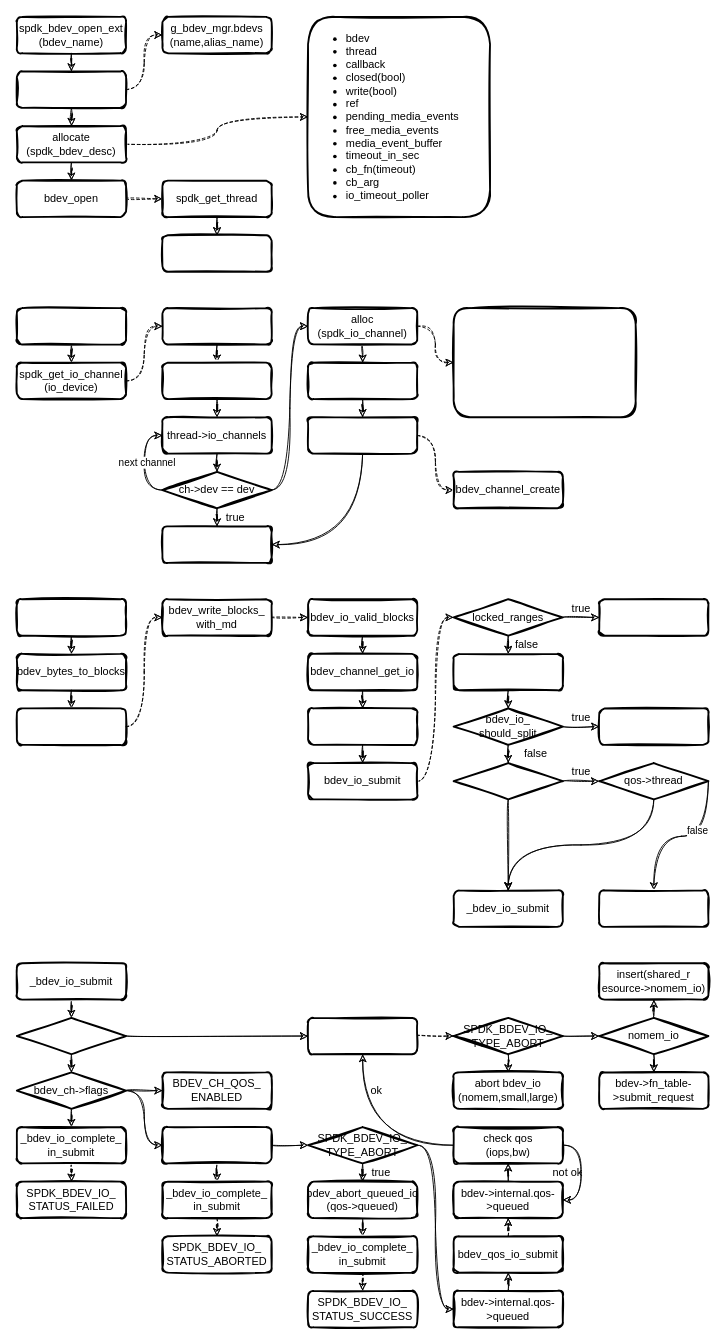
Some shapes in this 727 by 1343 pixel diagram are drawn without their labels. The shapes that lost their labels are listed below. From the top down, each one's box as (x1, y1, x2, y2) in pixels, then its label:
(15, 70, 126, 108): spdk_bdev_get_by_ name
(161, 234, 272, 272): bdev_start_qos
(15, 307, 126, 345): spdk_bdev_get_ io_channel
(161, 307, 272, 345): g_io_devices io_device
(161, 361, 272, 399): _get_thread
(307, 361, 418, 399): insert thread->io_channels
(452, 307, 636, 418): thread dev(io_device) ref destroy_ref destroy_callback ctx_ptr(ctx_size)
(307, 416, 418, 454): dev->create_cb
(161, 525, 272, 563): return ch
(15, 598, 126, 636): spdk_bdev_write
(598, 598, 709, 636): insert ch->io_locked
(452, 652, 563, 691): insert ch->io_submitted
(15, 707, 126, 745): spdk_bdev_write_ blocks
(307, 707, 418, 745): init bdev_io
(598, 707, 709, 745): bdev_io_split
(452, 762, 563, 800): BDEV_CH_ QOS_ENABLED
(598, 889, 709, 927): spdk_thread_send_msg (_bdev_io_submit)
(15, 1016, 126, 1055): bdev_ch->flags == 0
(307, 1016, 418, 1055): bdev_io_do_submit
(161, 1126, 272, 1164): BDEV_CH_RESET_ IN_PROGRESS
